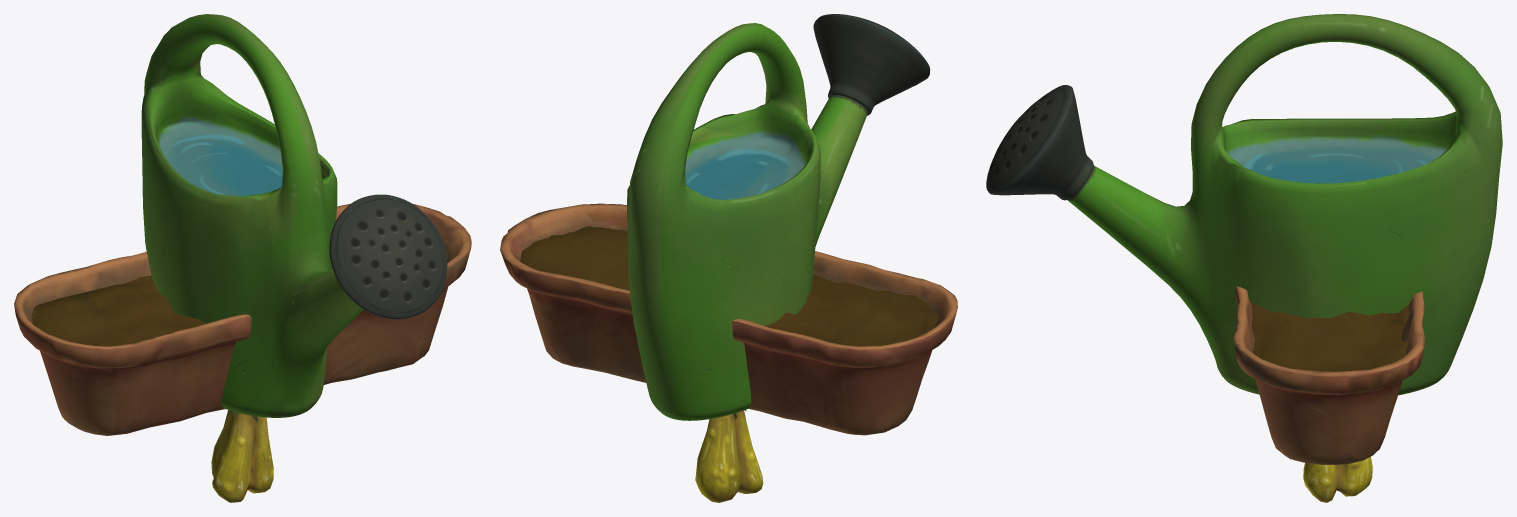
Rendered from jardin.glb.
3 views of the same model, side by side, from view 1: azimuth 30°, elevation 25°; view 2: azimuth 150°, elevation 25°; view 3: azimuth 270°, elevation 25° (orthographic). The views are drawn at different scales.
Visible parts, largest first — view 1: Arrosoir, Pot, Fruit; view 2: Arrosoir, Pot, Fruit; view 3: Arrosoir, Pot, Fruit.
Boxes of the visible parts, x1,y1,x2,y2 form: Arrosoir: (141,14,447,417); Pot: (14,203,471,435); Fruit: (211,410,273,502); Arrosoir: (627,14,930,420); Pot: (500,203,957,435); Fruit: (695,409,763,502); Arrosoir: (986,14,1502,395); Pot: (1233,286,1424,465); Fruit: (1303,456,1372,502).
Size of what is drawn, in the model's own units: 0.2603 by 0.2687 by 0.2624.
6 materials, 6 textured.
